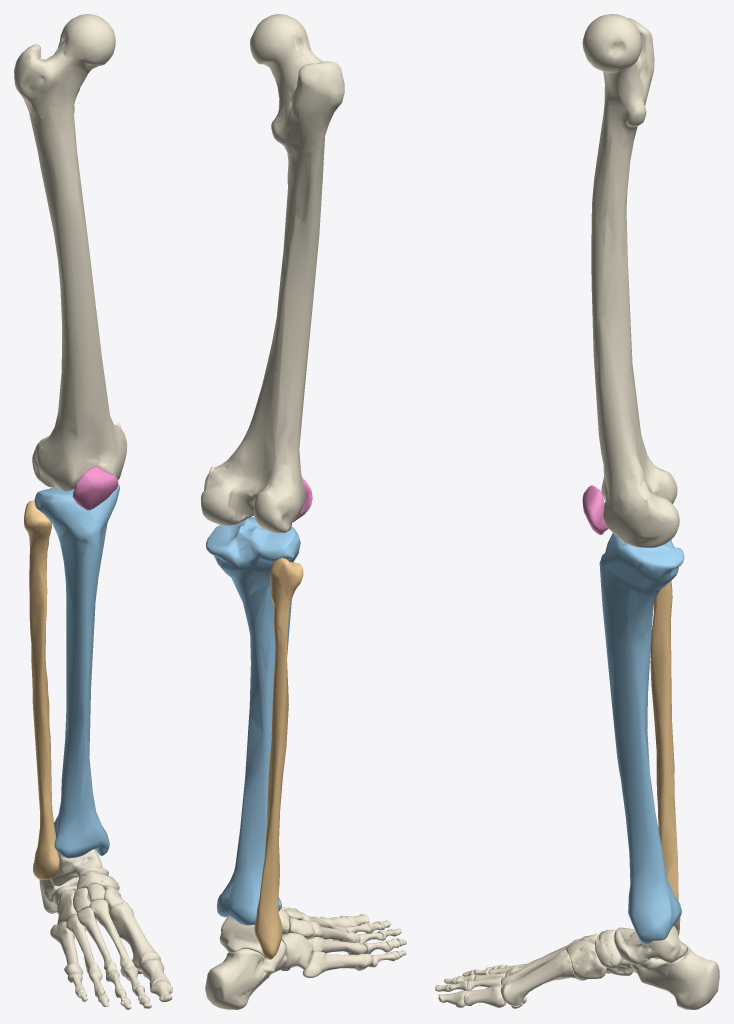
Rendered from knee-neutral.glb.
The picture shows the model from 3 angles, left to right: view 1: azimuth 30°, elevation 25°; view 2: azimuth 150°, elevation 25°; view 3: azimuth 270°, elevation 25°; orthographic projection. The views are drawn at different scales.
Parts seen in each view (by area): view 1: Femur.r-knee-preview, Tibia.r-knee-preview, Fibula.r-knee-preview, First metatarsal bone.r-knee-preview, Patella.r-knee-preview, Talus.r-knee-preview, Second metatarsal bone.r-knee-preview, Fifth metatarsal bone.r-knee-preview, Third metatarsal bone.r-knee-preview, Calcaneus.r-knee-preview, Fourth metatarsal bone.r-knee-preview, Navicular bone.r-knee-preview (+2 smaller); view 2: Femur.r-knee-preview, Tibia.r-knee-preview, Fibula.r-knee-preview, Calcaneus.r-knee-preview, Fifth metatarsal bone.r-knee-preview, Talus.r-knee-preview, Cuboid bone.r-knee-preview, Fourth metatarsal bone.r-knee-preview, Third metatarsal bone.r-knee-preview; view 3: Femur.r-knee-preview, Tibia.r-knee-preview, Fibula.r-knee-preview, Calcaneus.r-knee-preview, Talus.r-knee-preview, First metatarsal bone.r-knee-preview, Medial cuneiform bone.r-knee-preview, Patella.r-knee-preview, Navicular bone.r-knee-preview, Proximal phalanx of first finger of foot-knee-preview.
Boxes of the visible parts, left/top/right/bottom form: Femur.r-knee-preview: left=14, top=14, right=127, bottom=491; Tibia.r-knee-preview: left=34, top=484, right=119, bottom=858; Fibula.r-knee-preview: left=24, top=500, right=59, bottom=880; First metatarsal bone.r-knee-preview: left=109, top=902, right=160, bottom=969; Patella.r-knee-preview: left=72, top=466, right=118, bottom=510; Talus.r-knee-preview: left=50, top=849, right=108, bottom=886; Second metatarsal bone.r-knee-preview: left=89, top=899, right=134, bottom=977; Fifth metatarsal bone.r-knee-preview: left=50, top=921, right=83, bottom=975; Third metatarsal bone.r-knee-preview: left=77, top=907, right=117, bottom=975; Calcaneus.r-knee-preview: left=39, top=877, right=78, bottom=913; Fourth metatarsal bone.r-knee-preview: left=66, top=914, right=100, bottom=974; Navicular bone.r-knee-preview: left=77, top=871, right=119, bottom=890; Femur.r-knee-preview: left=201, top=14, right=344, bottom=533; Tibia.r-knee-preview: left=206, top=517, right=300, bottom=925; Fibula.r-knee-preview: left=254, top=558, right=303, bottom=959; Calcaneus.r-knee-preview: left=205, top=940, right=286, bottom=1009; Fifth metatarsal bone.r-knee-preview: left=302, top=951, right=373, bottom=977; Talus.r-knee-preview: left=219, top=916, right=265, bottom=958; Cuboid bone.r-knee-preview: left=281, top=933, right=313, bottom=970; Fourth metatarsal bone.r-knee-preview: left=308, top=937, right=366, bottom=954; Third metatarsal bone.r-knee-preview: left=306, top=921, right=360, bottom=942; Femur.r-knee-preview: left=582, top=14, right=679, bottom=547; Tibia.r-knee-preview: left=599, top=533, right=684, bottom=944; Fibula.r-knee-preview: left=650, top=539, right=680, bottom=935; Calcaneus.r-knee-preview: left=631, top=944, right=719, bottom=1009; Talus.r-knee-preview: left=614, top=926, right=687, bottom=965; First metatarsal bone.r-knee-preview: left=501, top=950, right=575, bottom=1005; Medial cuneiform bone.r-knee-preview: left=566, top=940, right=606, bottom=980; Patella.r-knee-preview: left=582, top=485, right=608, bottom=534; Navicular bone.r-knee-preview: left=595, top=929, right=622, bottom=968; Proximal phalanx of first finger of foot-knee-preview: left=463, top=985, right=505, bottom=1007.
Bounding box in the file's own units: 0.1166 × 0.8751 × 0.2289.
